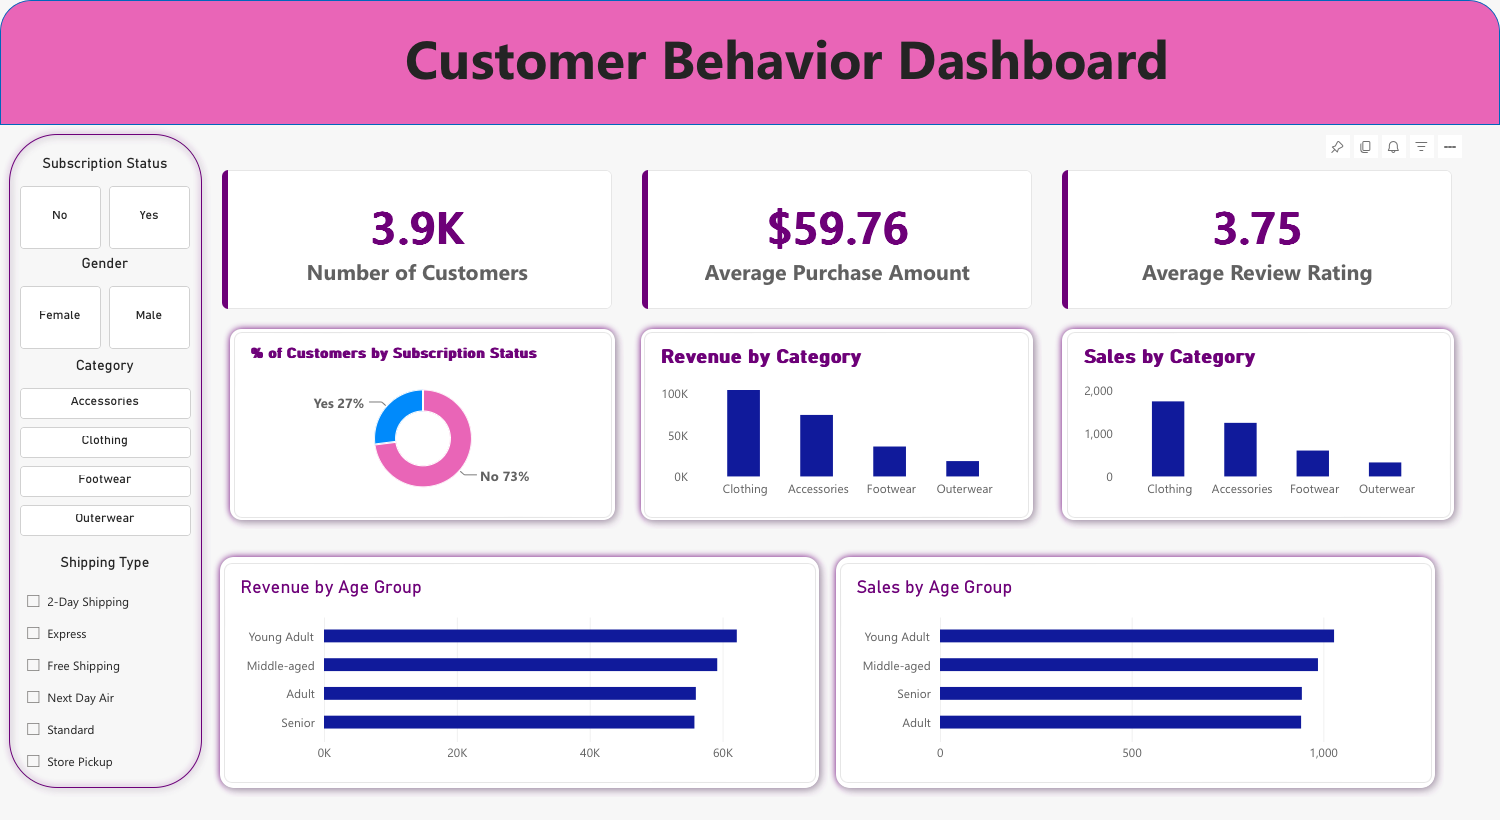

What the dashboard file says about the page in this screenshot:
{"tool":"powerbi","page":{"name":"Page 1","canvas":[1500,820],"ordinal":0},"visuals":[{"type":"shape","box":[211,548,617,249],"z":0},{"type":"shape","box":[221,320,403,209],"z":1000},{"type":"cardVisual","fields":{"Data":["customer_cleaned.Number of Customers","customer_cleaned.Average Purchase Amount","customer_cleaned.Average Review Rating"]},"box":[211,159,1252,161],"z":2000},{"type":"shape","box":[0,0,1500,125],"z":3000},{"type":"textbox","box":[0,35,1717,92],"z":4000},{"type":"donutChart","title":"% of Customers by Subscription Status","fields":{"Category":["customer_cleaned.subscription_status"],"Y":["CountNonNull(customer_cleaned.customer_id)"]},"box":[234,332,378,186],"z":5000},{"type":"shape","box":[632,320,410,209],"z":6000},{"type":"textbox","box":[406,21,885,88],"z":7000},{"type":"clusteredColumnChart","title":"Revenue by Category","fields":{"Category":["customer_cleaned.category"],"Y":["Sum(customer_cleaned.purchase_amount)"]},"box":[644,332,385,186],"z":8000},{"type":"shape","box":[1053,320,410,209],"z":9000},{"type":"clusteredColumnChart","title":"Sales by Category","fields":{"Category":["customer_cleaned.category"],"Y":["CountNonNull(customer_cleaned.customer_id)"]},"box":[1067,332,384,186],"z":10000},{"type":"shape","box":[0,125,211,672],"z":11000},{"type":"advancedSlicerVisual","title":"Subscription Status","fields":{"Values":["customer_cleaned.subscription_status"]},"box":[20,157,171,93],"z":12000},{"type":"advancedSlicerVisual","title":"Gender","fields":{"Values":["customer_cleaned.gender"]},"box":[20,257,171,93],"z":13000},{"type":"advancedSlicerVisual","title":"Category","fields":{"Values":["customer_cleaned.category"]},"box":[20,359,171,180],"z":14000},{"type":"slicer","title":"Shipping Type","fields":{"Values":["customer_cleaned.shipping_type"]},"box":[20,556,171,241],"z":15000},{"type":"clusteredBarChart","title":"Revenue by Age Group","fields":{"Category":["customer_cleaned.age_group"],"Y":["Sum(customer_cleaned.purchase_amount)"]},"box":[224,563,592,220],"z":16000},{"type":"shape","box":[827,548,617,249],"z":16001},{"type":"clusteredBarChart","title":"Sales by Age Group","fields":{"Category":["customer_cleaned.age_group"],"Y":["CountNonNull(customer_cleaned.customer_id)"]},"box":[840,563,592,220],"z":16002}]}

Visuals, with their boxes in screenshot pixels (x1, y1, x2, y2), scaled from the page's 1500x820 canvas onto the 1500x820 screenshot:
shape: <region>211, 548, 828, 797</region>
shape: <region>221, 320, 624, 529</region>
cardVisual - customer_cleaned.Number of Customers x customer_cleaned.Average Purchase Amount: <region>211, 159, 1463, 320</region>
shape: <region>0, 0, 1499, 125</region>
textbox: <region>0, 35, 1499, 127</region>
"% of Customers by Subscription Status" donutChart: <region>234, 332, 612, 518</region>
shape: <region>632, 320, 1042, 529</region>
textbox: <region>406, 21, 1291, 109</region>
"Revenue by Category" clusteredColumnChart: <region>644, 332, 1029, 518</region>
shape: <region>1053, 320, 1463, 529</region>
"Sales by Category" clusteredColumnChart: <region>1067, 332, 1451, 518</region>
shape: <region>0, 125, 211, 797</region>
"Subscription Status" advancedSlicerVisual: <region>20, 157, 191, 250</region>
"Gender" advancedSlicerVisual: <region>20, 257, 191, 350</region>
"Category" advancedSlicerVisual: <region>20, 359, 191, 539</region>
"Shipping Type" slicer: <region>20, 556, 191, 797</region>
"Revenue by Age Group" clusteredBarChart: <region>224, 563, 816, 783</region>
shape: <region>827, 548, 1444, 797</region>
"Sales by Age Group" clusteredBarChart: <region>840, 563, 1432, 783</region>
